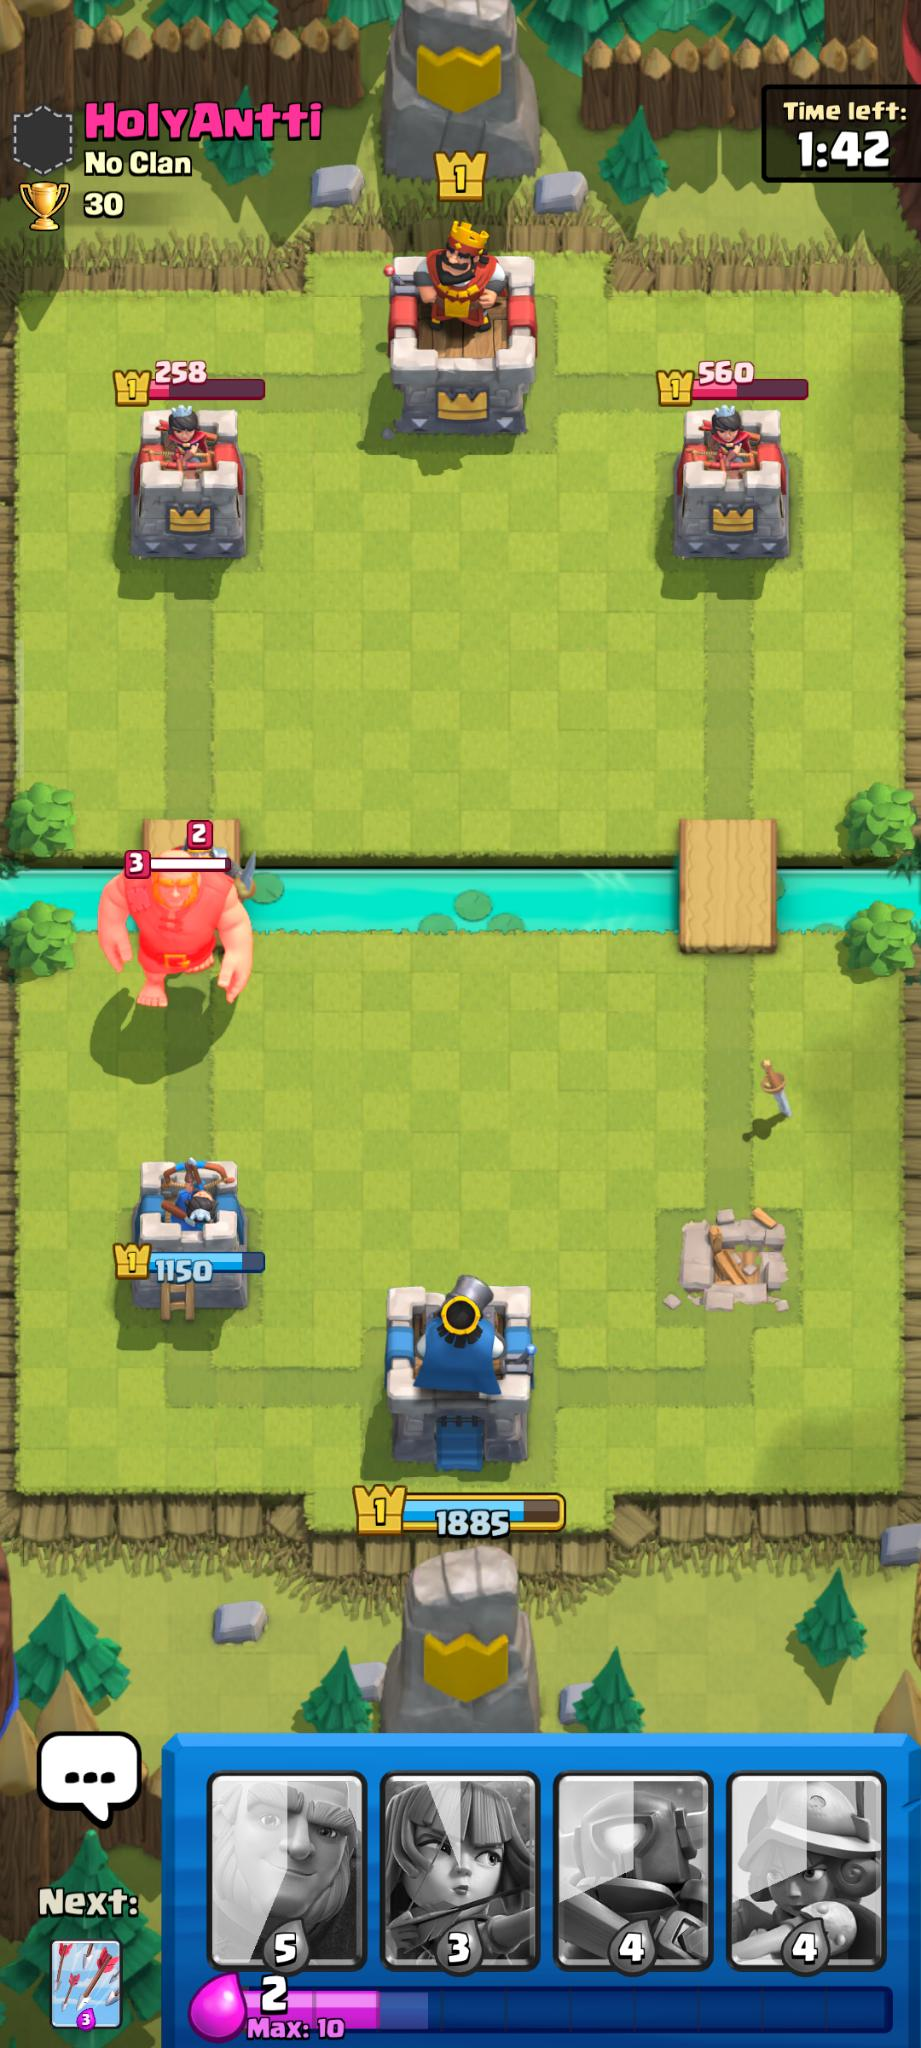geant: (99, 849, 261, 1011)
